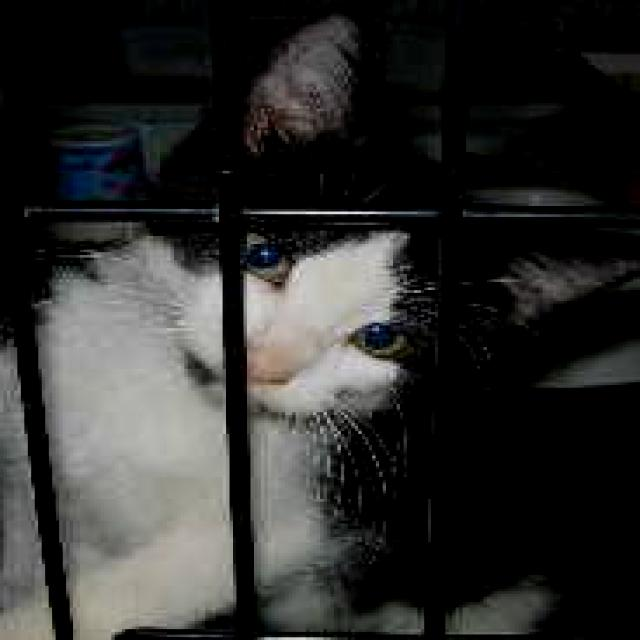Kucing: (0, 22, 578, 618)
